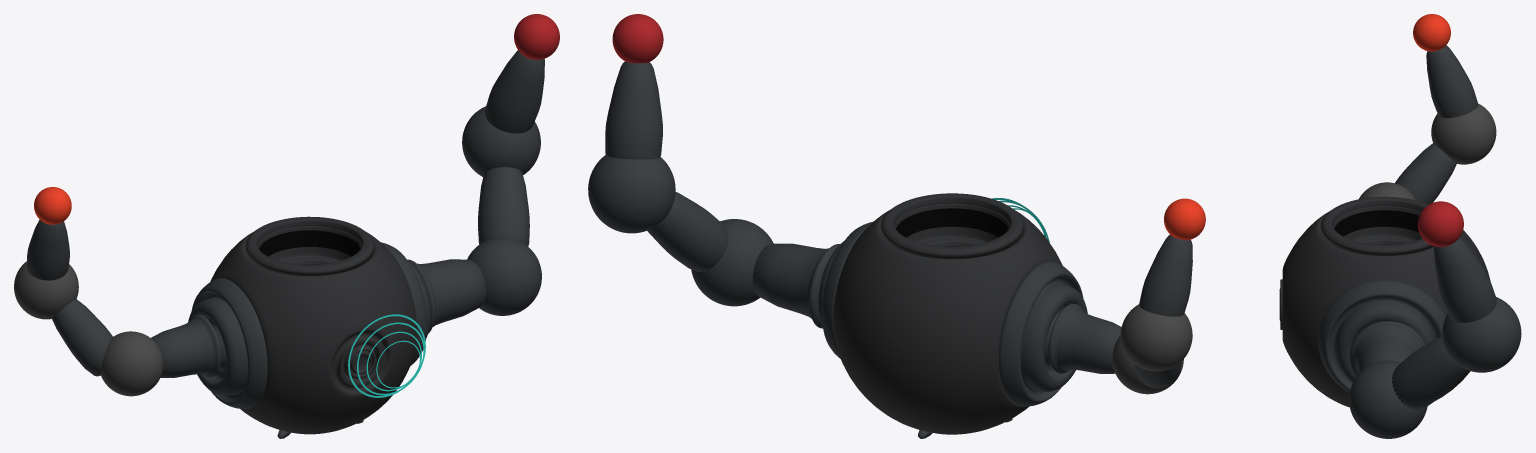
The model's file is robotbien 1.fbx.
The picture shows the model from 3 angles, left to right: view 1: azimuth 30°, elevation 25°; view 2: azimuth 150°, elevation 25°; view 3: azimuth 270°, elevation 25°; orthographic projection. The views are drawn at different scales.
Visible parts, largest first — view 1: Sphere.018; view 2: Sphere.018; view 3: Sphere.018.
Boxes of the visible parts, left/top/right/bottom form: Sphere.018: left=14, top=14, right=559, bottom=438; Sphere.018: left=588, top=14, right=1205, bottom=438; Sphere.018: left=1279, top=14, right=1521, bottom=438.
Size of the model in its own units: 553 by 324 by 262.
